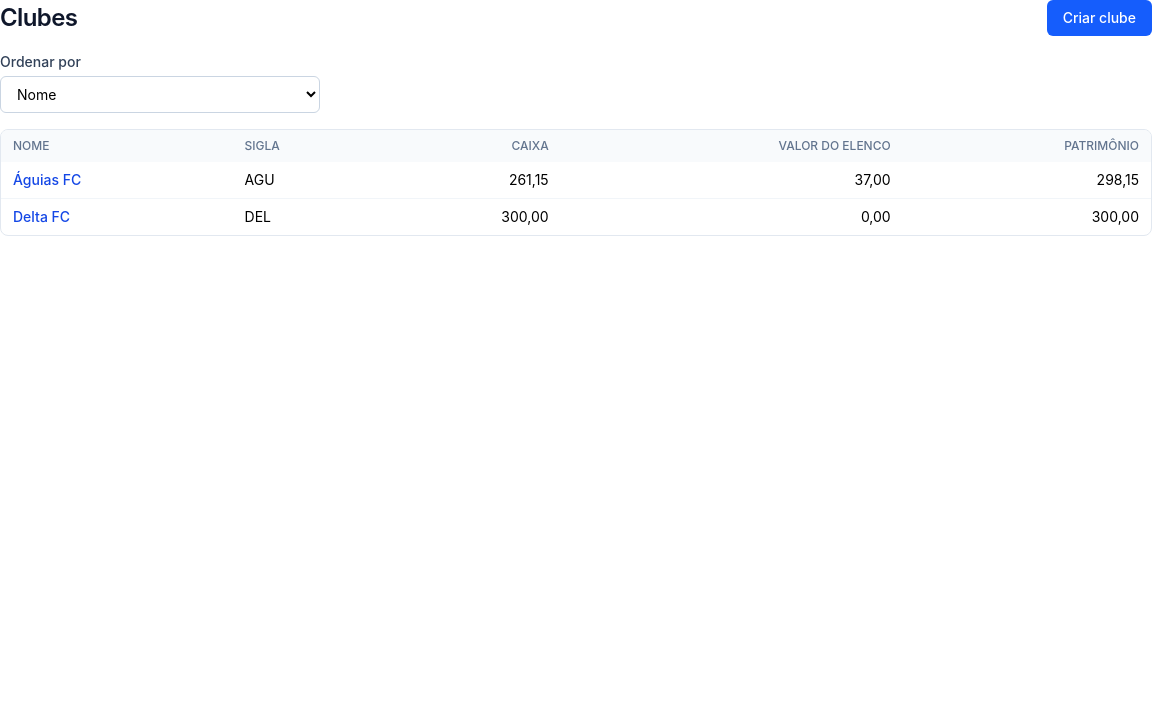
Test: ClubsPage › cria o clube, mostra o caixa devolvido pela API e atualiza a lista
Expected: the link "Águias FC" is shown, [13,171,81,188]
Click the button "Criar clube": click(1099, 18) [1047,0,1151,36]
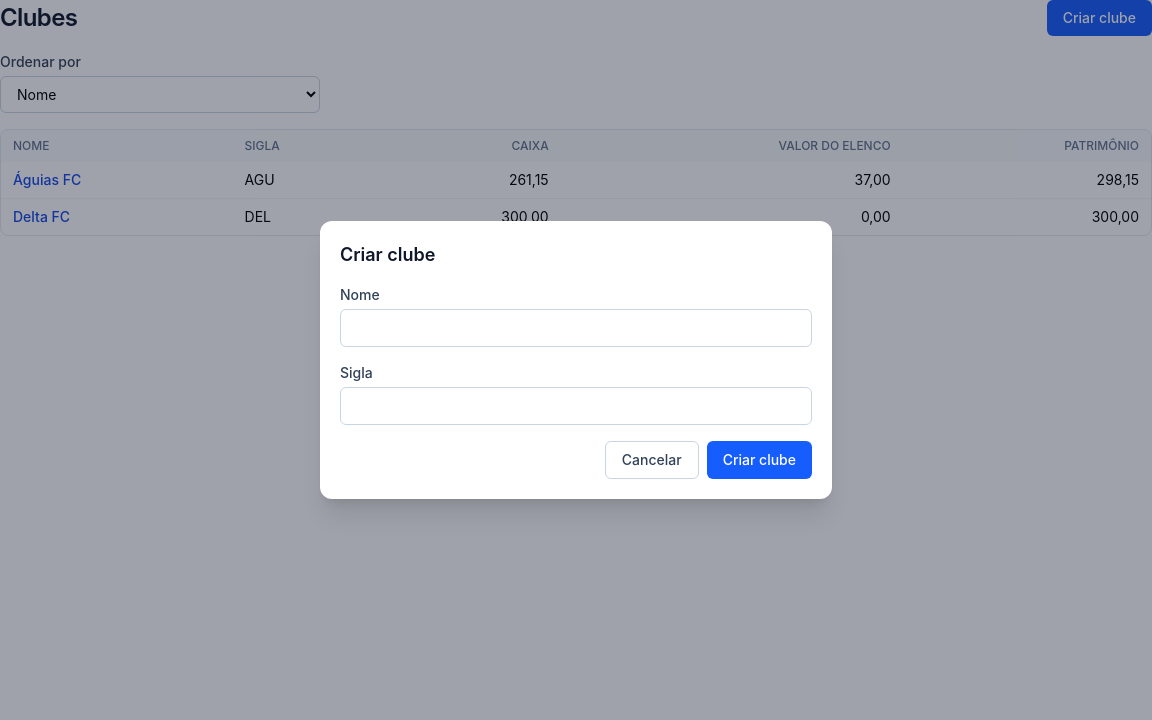
In the field labelled "Nome": (576, 328) [340,309,812,347], type "Leões do Sul"
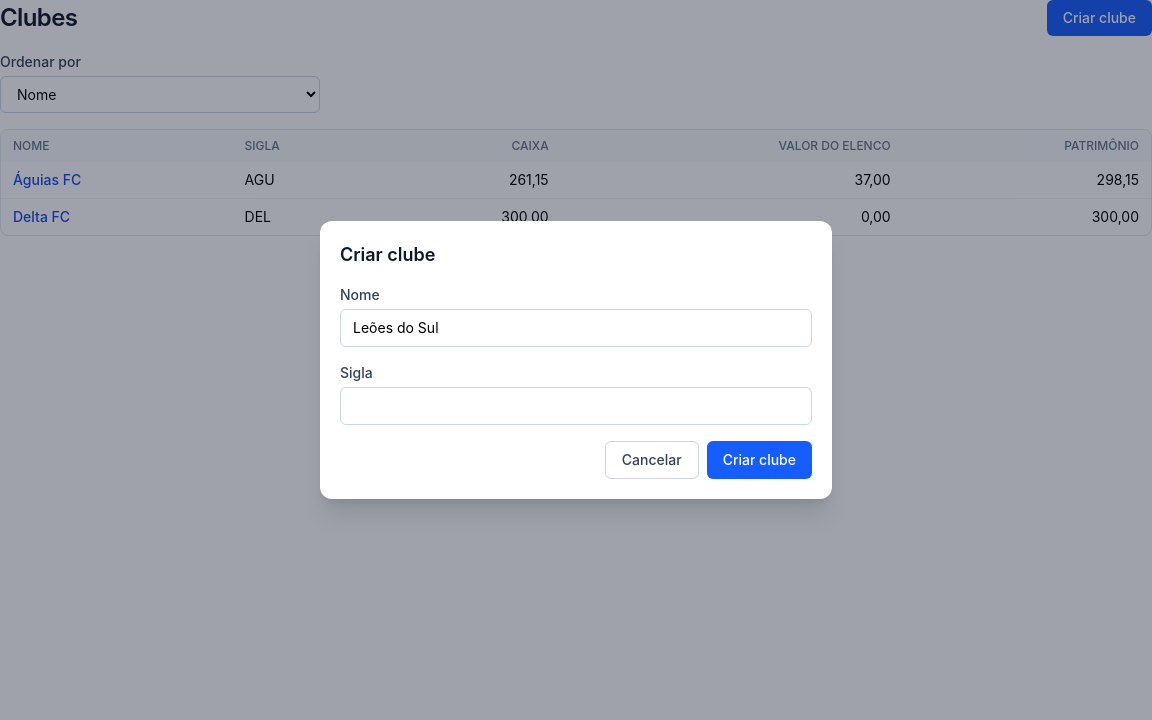
In the field labelled "Sigla": (576, 406) [340,387,812,425], type "LEO"
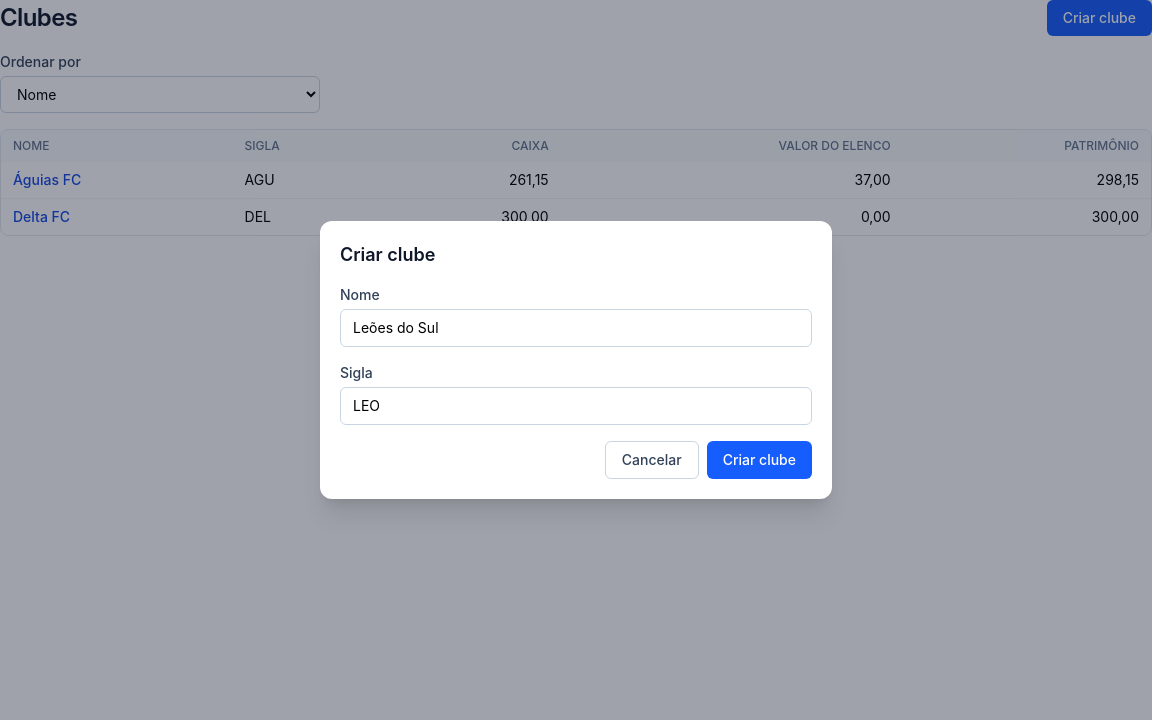
Click the button "Criar clube": click(759, 460) [707,441,812,479]
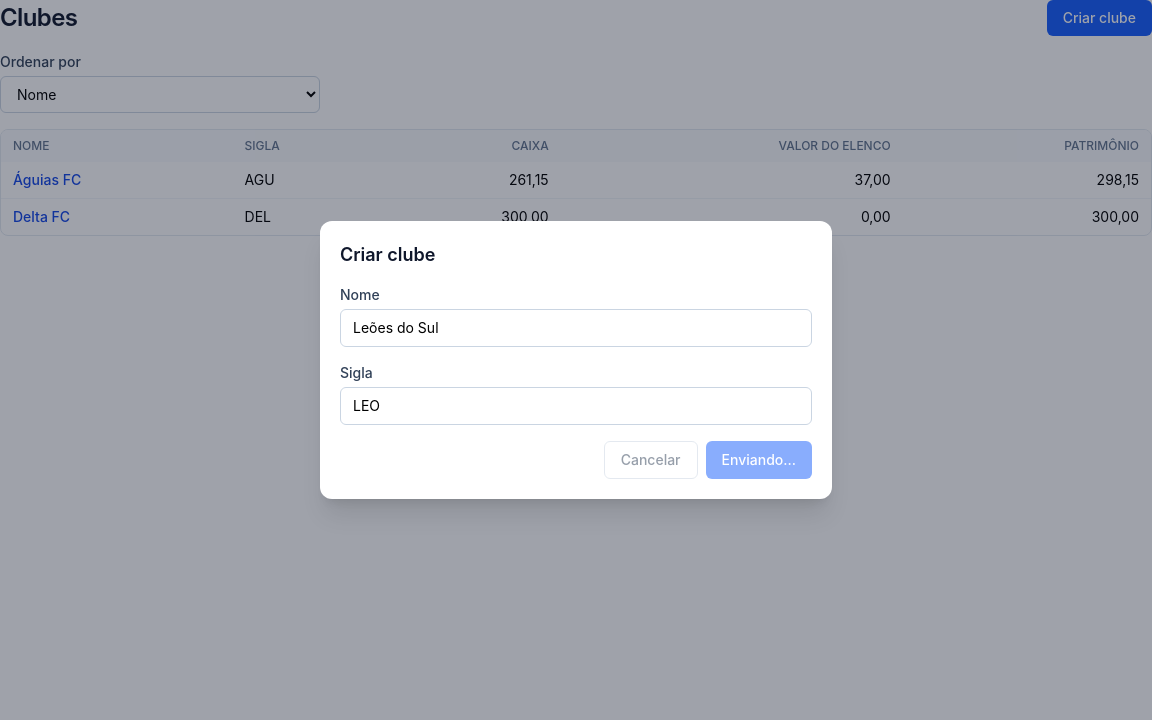
Click the button named "Criar clube": click(759, 460) [706,441,812,479]
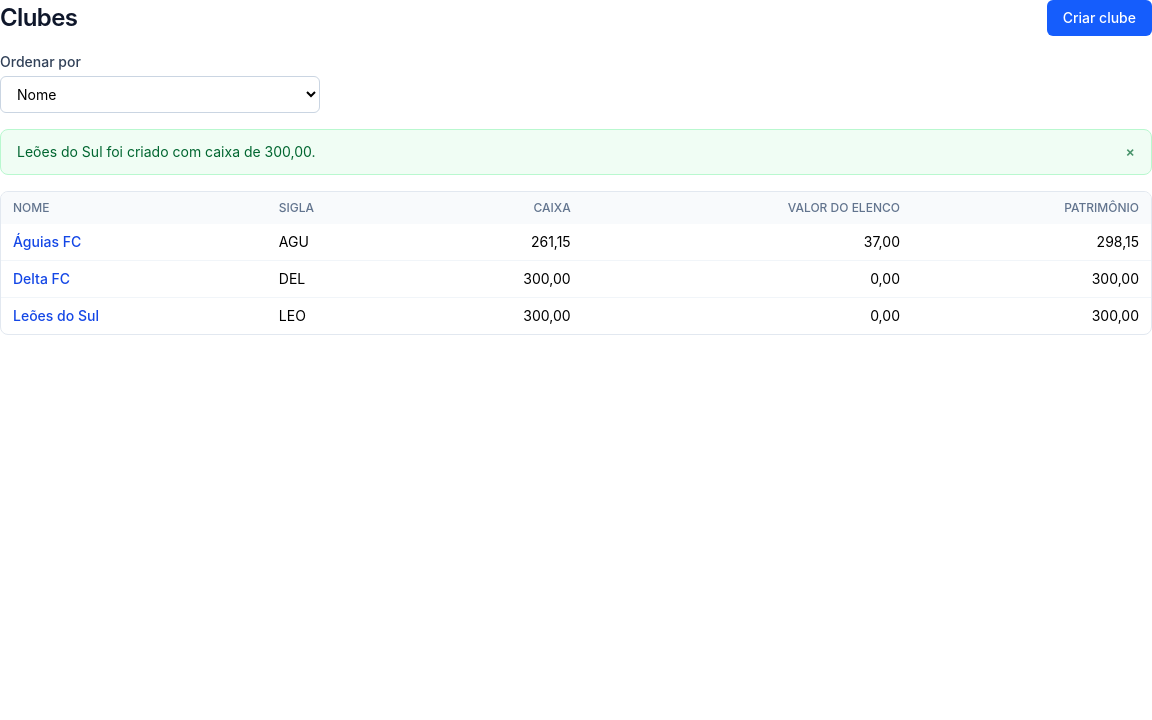
Expected: the message shows "Leões do Sul foi criado com caixa de 300,00.", [17,143,316,160]
Expected: the link "Leões do Sul" is shown, [13,307,99,324]
